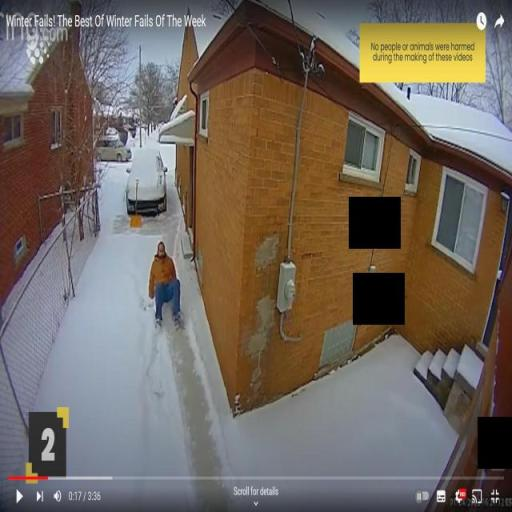Fall: (147, 238, 185, 333)
